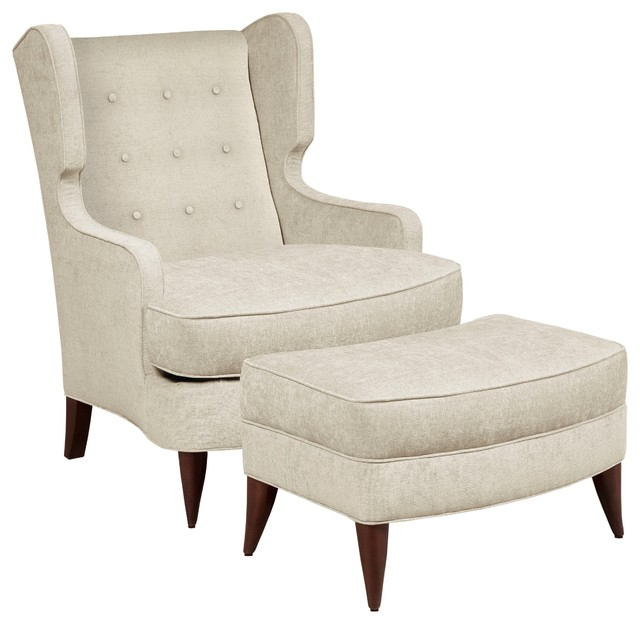chairs: (8, 14, 466, 532), (232, 309, 633, 611)
